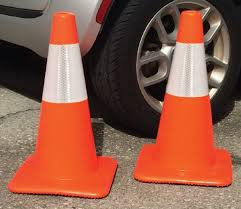cones: (8, 13, 120, 195), (134, 10, 237, 190)
